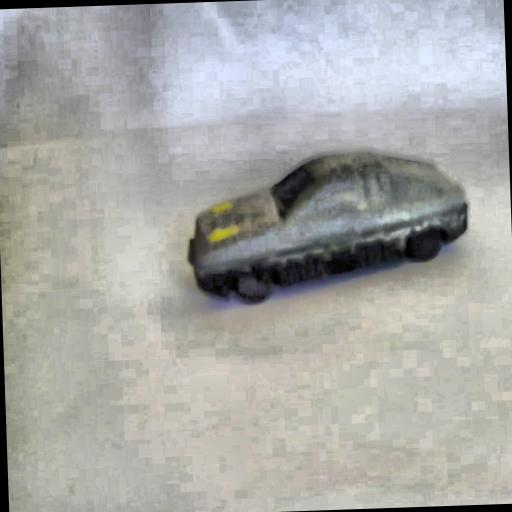normal_car: (180, 141, 474, 310)
